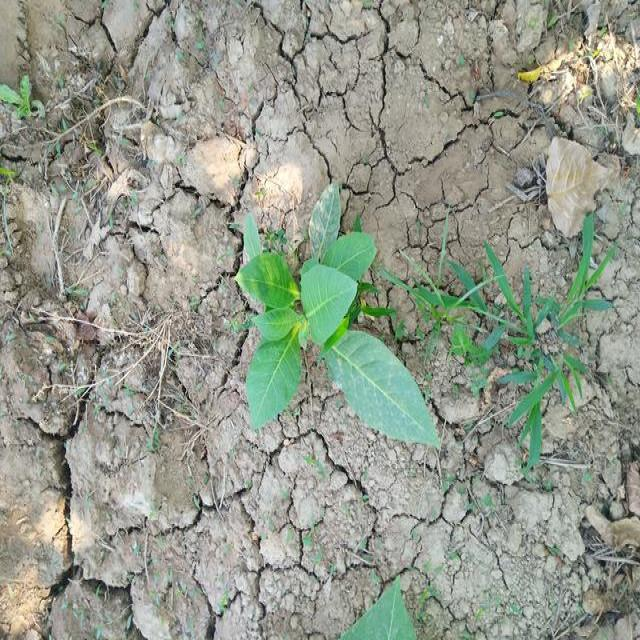crop: (242, 184, 428, 457)
